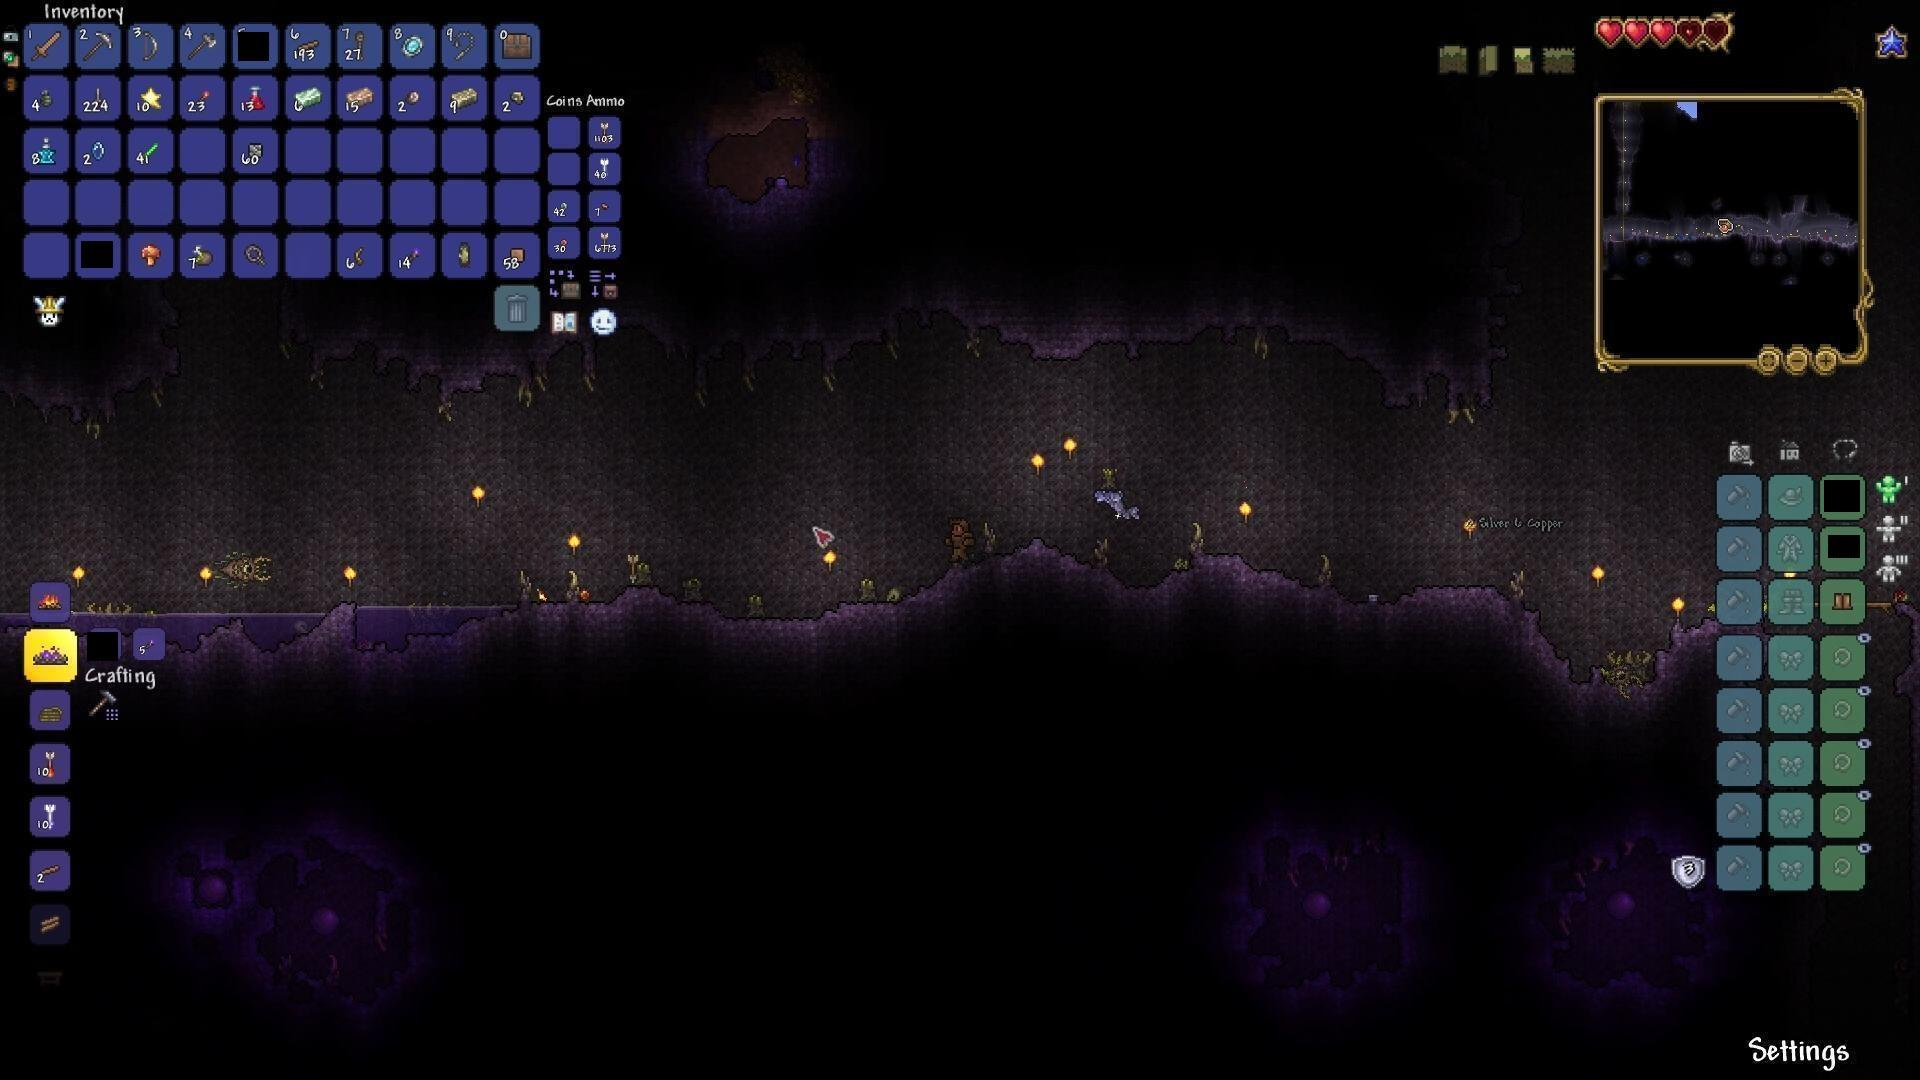legs: (1830, 585, 1855, 615)
wood: (36, 911, 66, 939)
